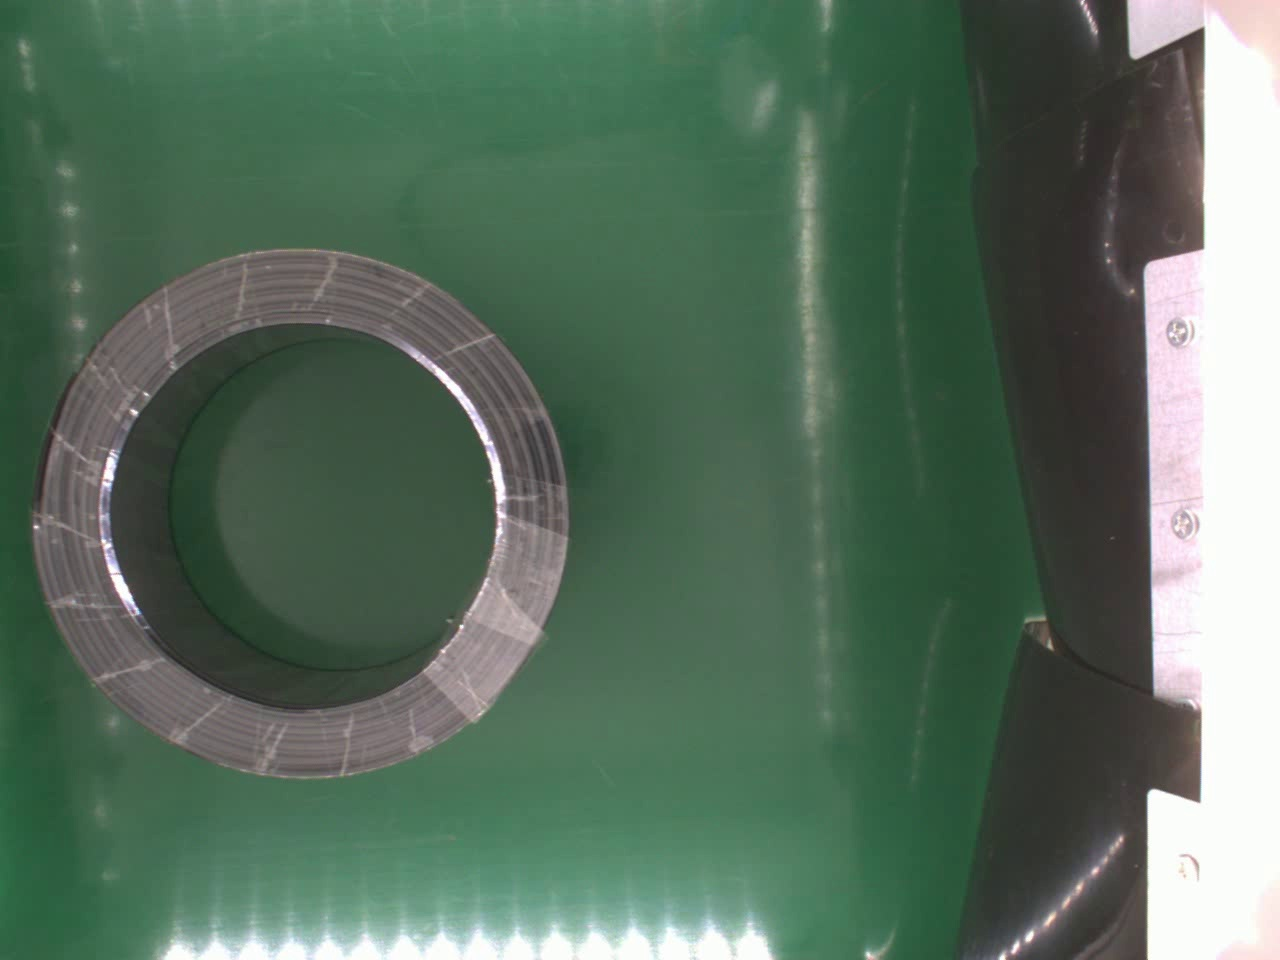black: (29, 244, 571, 785)
